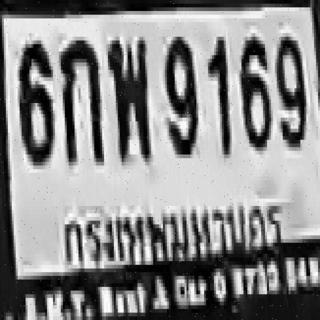A01: (59, 37, 102, 162)
A30: (106, 33, 149, 158)
N01: (206, 33, 228, 154)
N06: (18, 37, 53, 162), (240, 33, 269, 147)
N09: (163, 33, 196, 154), (275, 33, 304, 147)
P04: (60, 188, 289, 281)
